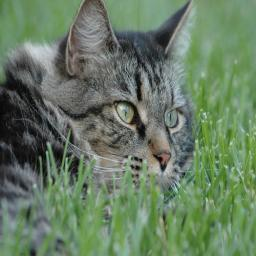catnose: (152, 151, 172, 172)
